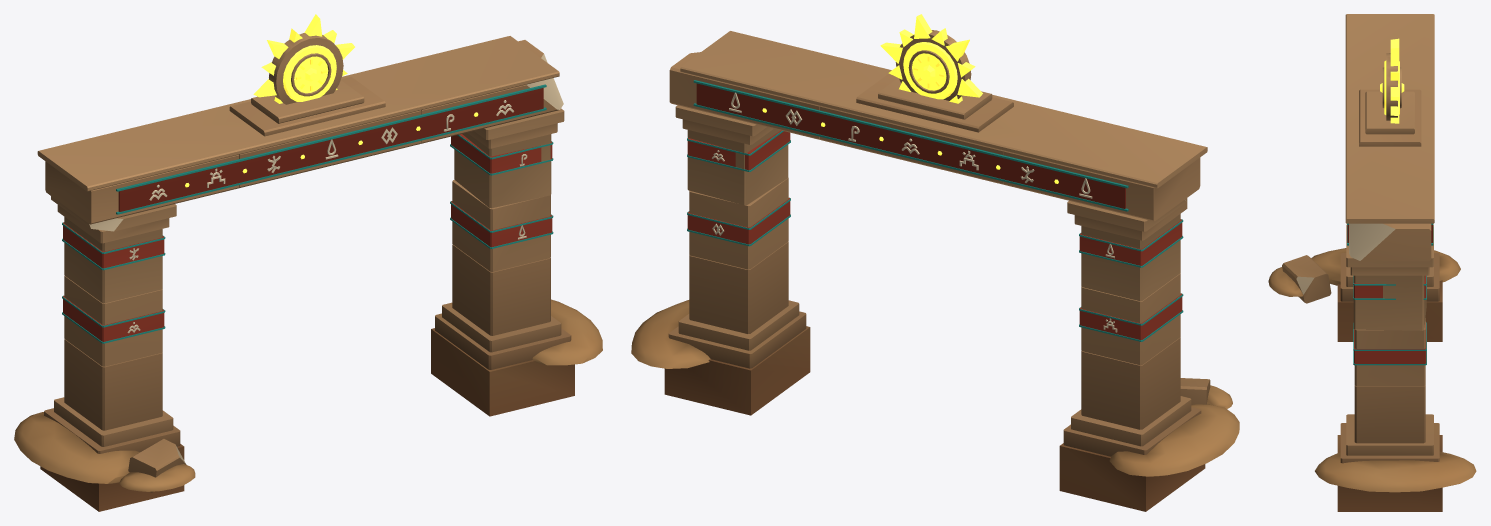
Rendered from sun_gate.glb.
3 renders of one model, left to right at view 1: azimuth 30°, elevation 25°; view 2: azimuth 150°, elevation 25°; view 3: azimuth 270°, elevation 25°, orthographic. The views are drawn at different scales.
Parts seen in each view (by area): view 1: sun_gate; view 2: sun_gate; view 3: sun_gate.
Boxes of the visible parts, box(x1,y1,x2,y2) form: sun_gate: box(14, 14, 602, 511); sun_gate: box(631, 14, 1239, 511); sun_gate: box(1268, 14, 1476, 511).
Size of the model in its own units: 20.42 by 14.29 by 7.35.
